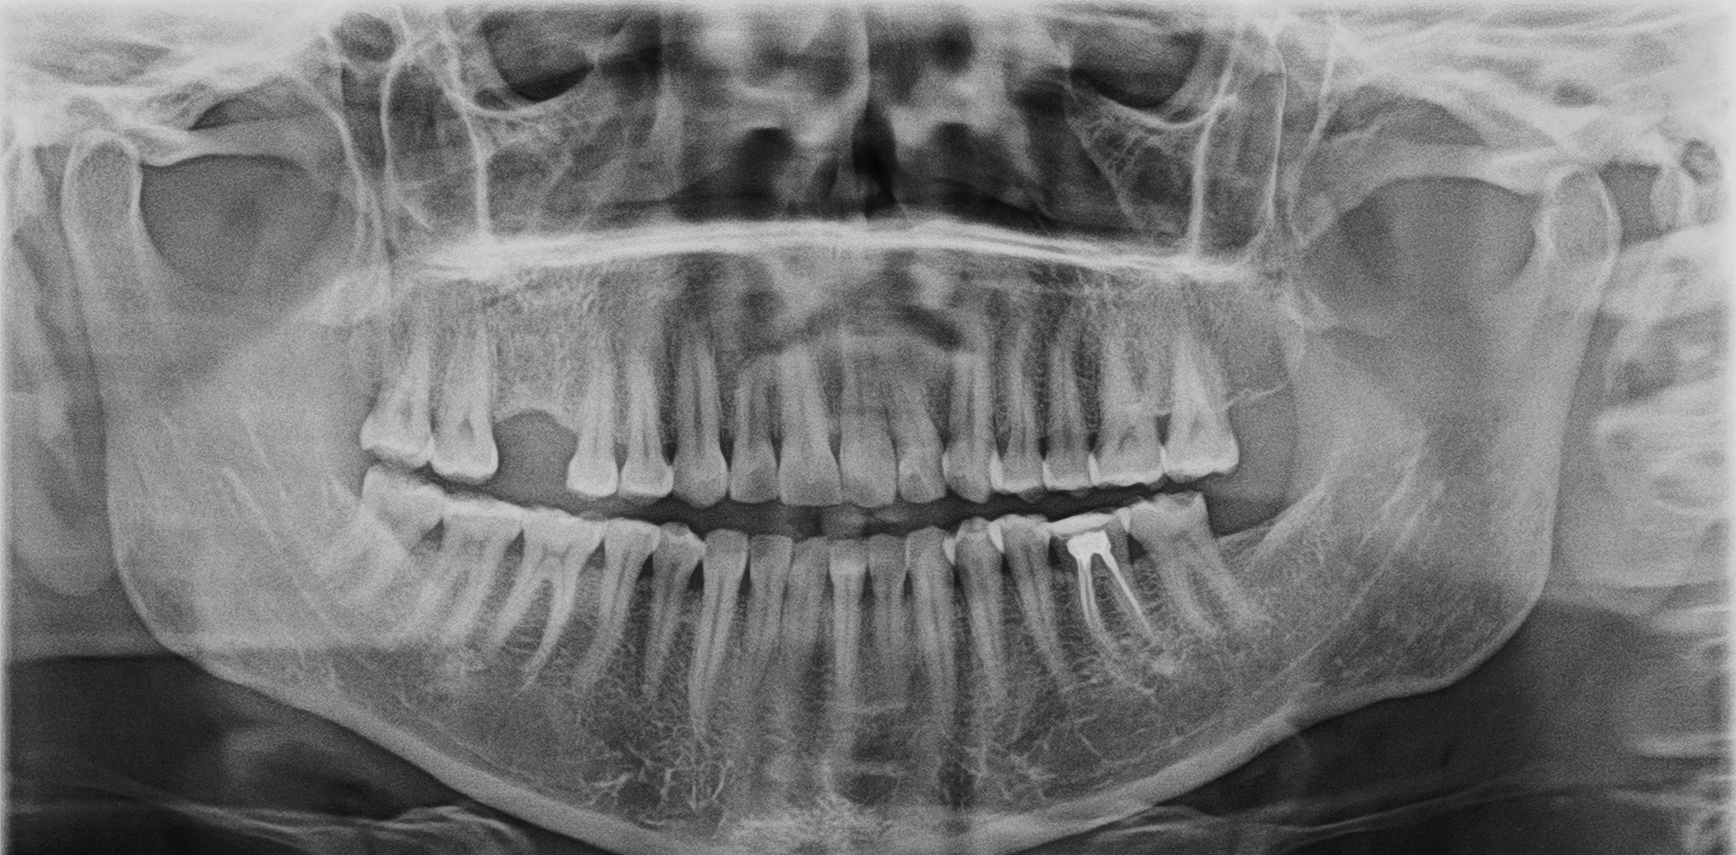tratamiento_conducto: (1034, 504, 1167, 668)
zona_dentula: (483, 325, 598, 504)
